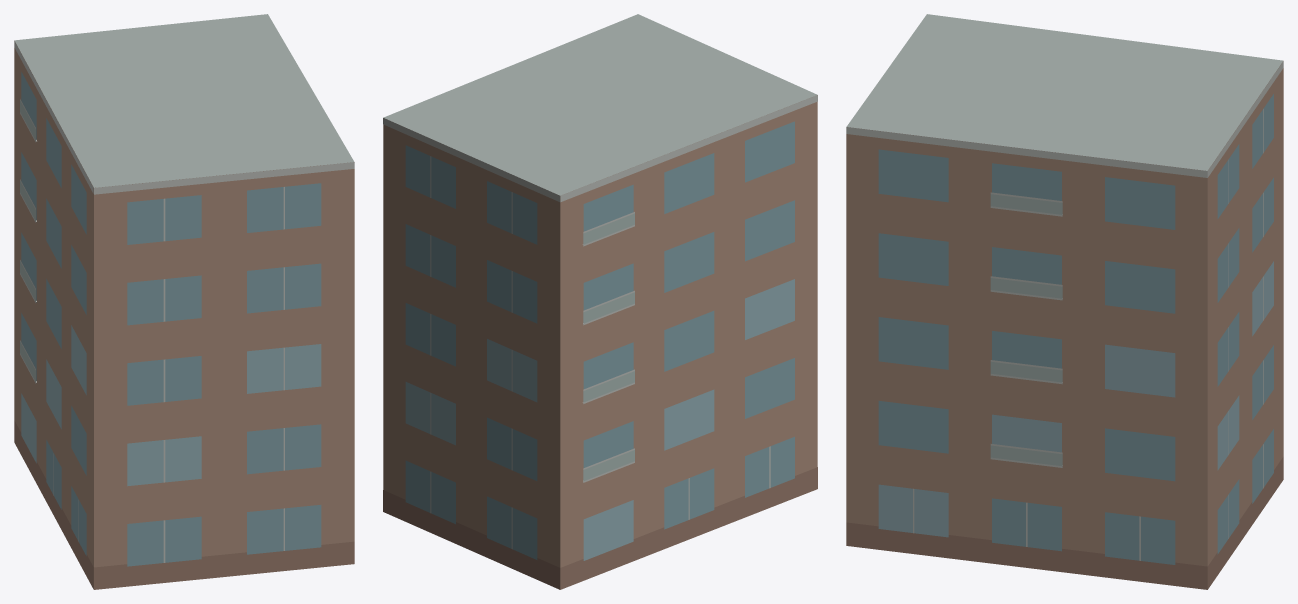
Rendered from survey-upis-32878542.glb.
3 views of the same model, side by side, from view 1: azimuth 30°, elevation 25°; view 2: azimuth 150°, elevation 25°; view 3: azimuth 270°, elevation 25° (orthographic). The views are drawn at different scales.
Parts seen in each view (by area): view 1: survey-upis-32878542.tmp; view 2: survey-upis-32878542.tmp; view 3: survey-upis-32878542.tmp.
Boxes of the visible parts, x1,y1,x2,y2 form: survey-upis-32878542.tmp: (14,14,354,589); survey-upis-32878542.tmp: (383,14,817,589); survey-upis-32878542.tmp: (846,14,1283,589).
Size of the model in its own units: 11.62 by 14.45 by 13.68.
